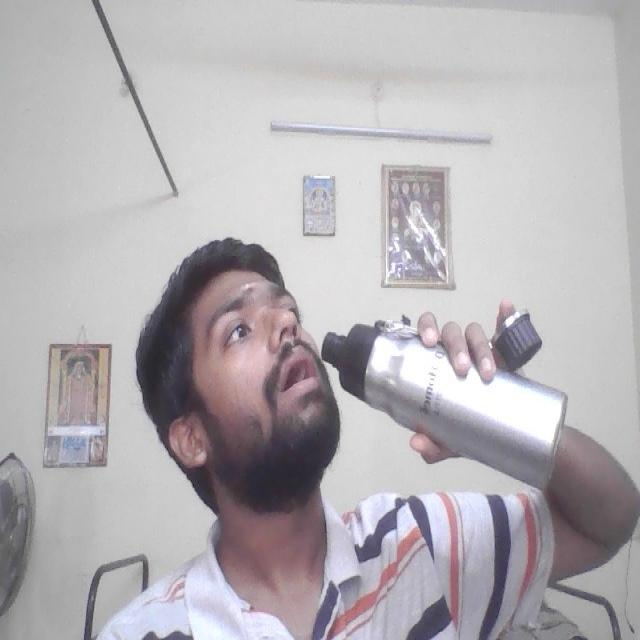Drinking: (324, 305, 572, 488)
